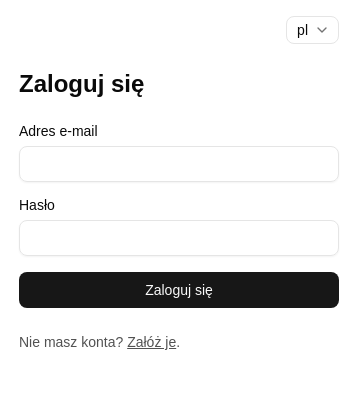
Scenario: LoginPage › shows the message the server sent when the password is wrong
Type "reader@example.com" into the field labelled "Adres e-mail" at coordinates (179, 164), box [19,146,339,182]
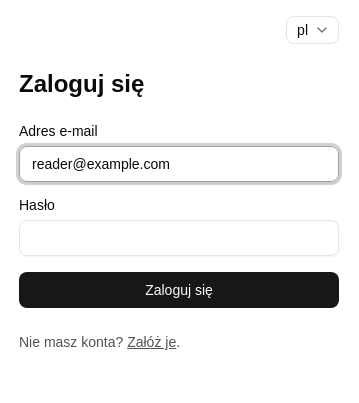
Type "wrong-password" into the password field labelled "Hasło" at coordinates (179, 238), box [19,220,339,256]
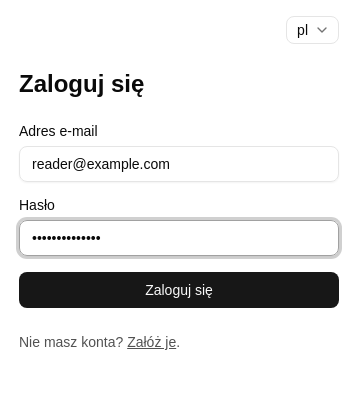
Click the button "Zaloguj się" at coordinates (179, 290), box [19,272,339,308]
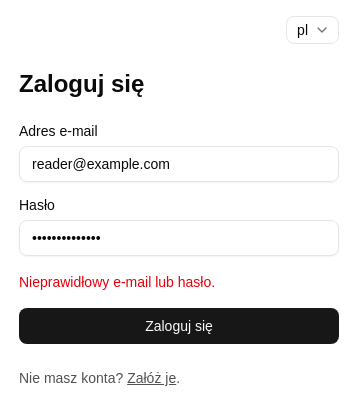
Result: the text "Nieprawidłowy e-mail lub hasło." is shown at [19,274,215,290]
